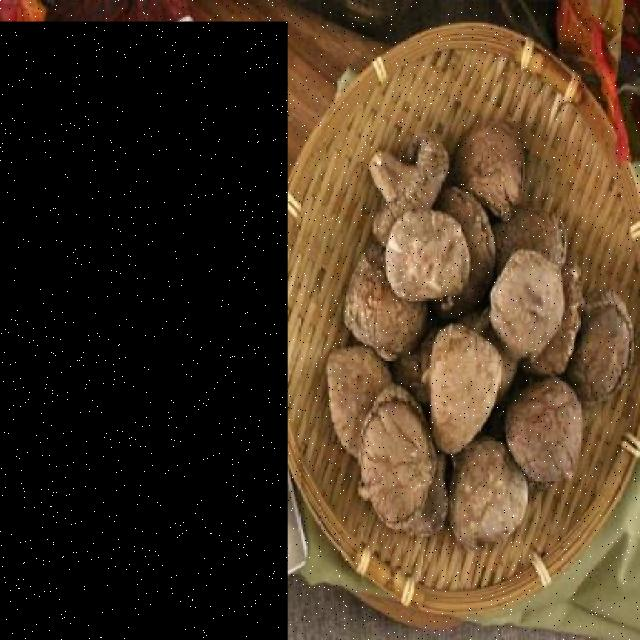Mushroom: (0, 22, 288, 640)
